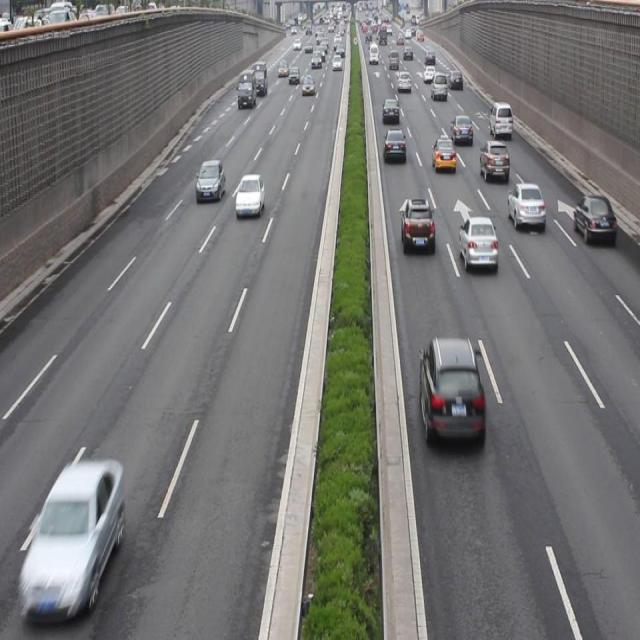car: (27, 458, 121, 604), (572, 192, 615, 245), (458, 215, 497, 269), (400, 196, 435, 251), (506, 182, 545, 229), (234, 172, 264, 216), (479, 138, 509, 182), (196, 158, 226, 200), (432, 136, 456, 173), (383, 128, 406, 160), (450, 113, 473, 144), (381, 96, 399, 124)
truck: (419, 335, 484, 444), (489, 101, 512, 136)
